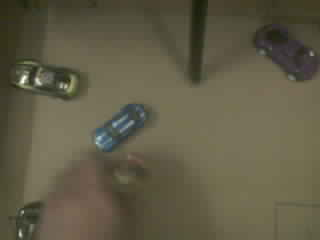Car: (255, 25, 316, 78), (10, 60, 79, 99), (94, 104, 146, 151), (17, 202, 40, 239)
